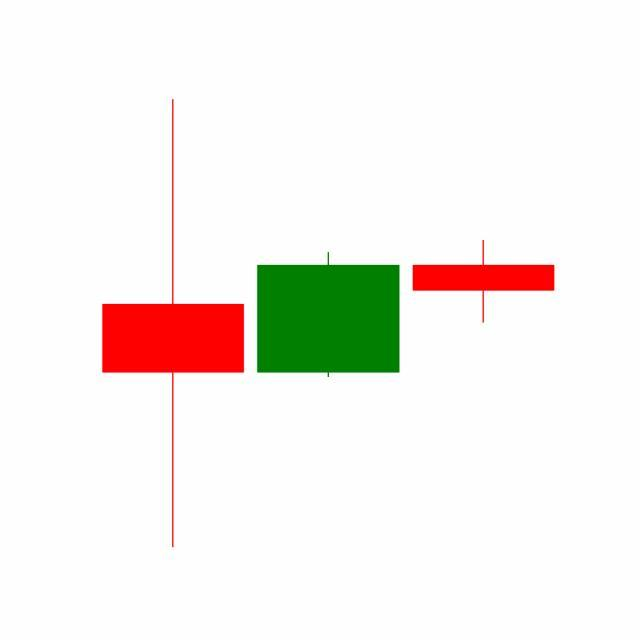Hanging Man: (406, 239, 562, 324)
